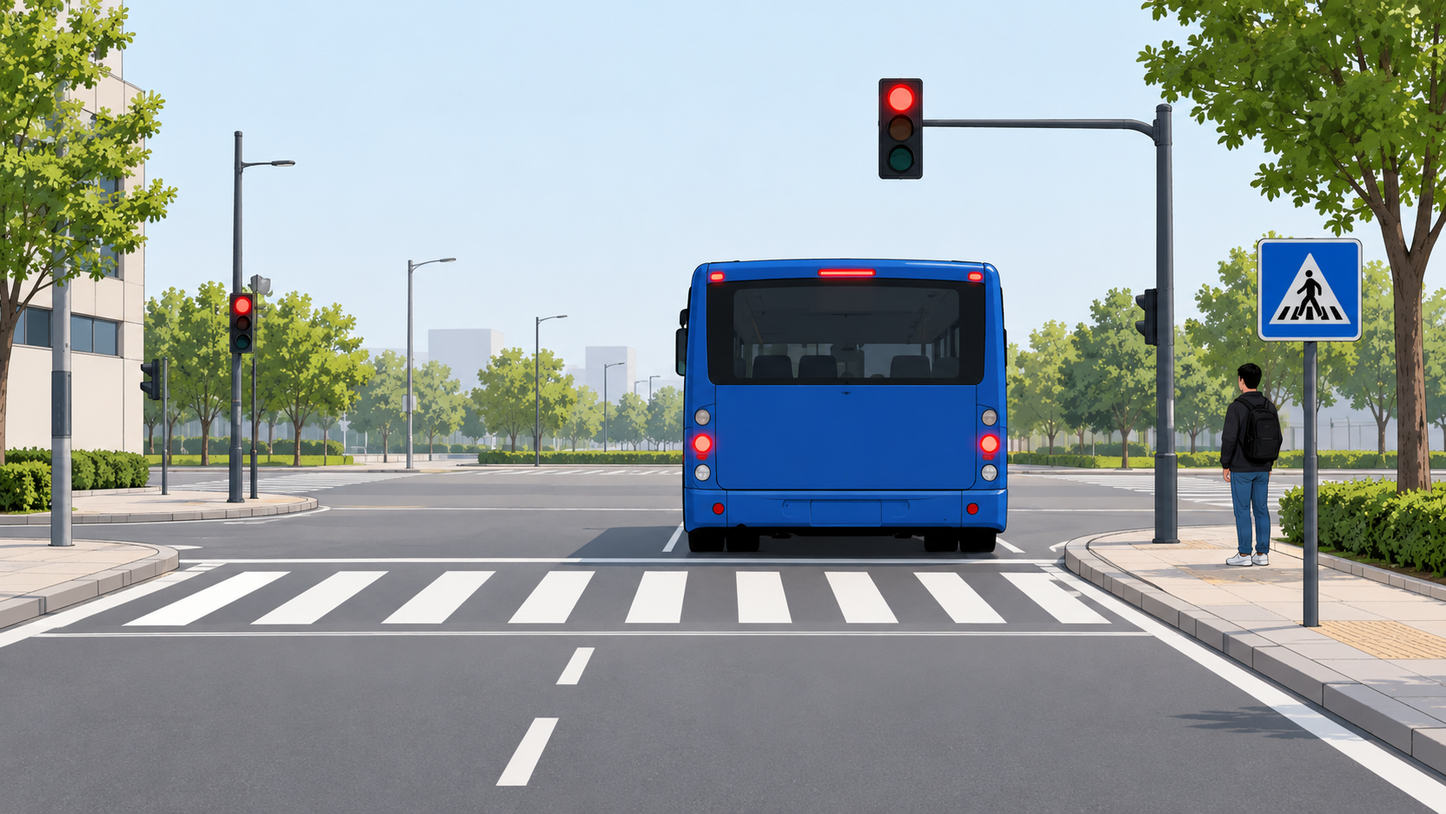bus: (682, 260, 1007, 552)
crossing_warning_sign: (1259, 238, 1363, 339)
person: (1216, 364, 1283, 564)
traffic_light: (879, 79, 924, 180), (227, 296, 253, 352)
zebra_crossing: (0, 562, 1129, 637)
